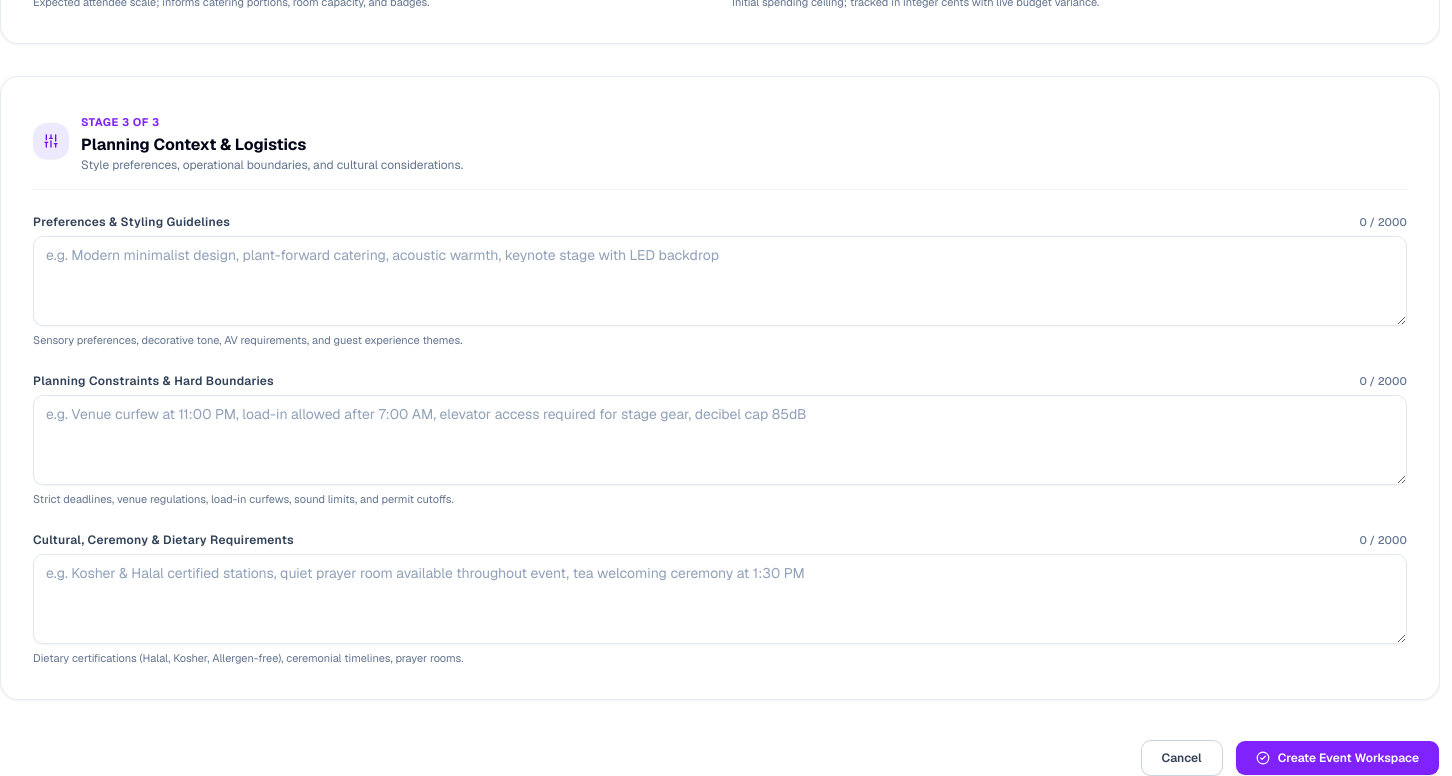
Test case: EventForm Component › Client Validation & Interactive Error Summaries › focuses the target field when clicking the error summary anchor link
(page scrolled)
Click the button "Create Event Workspace": (1337, 758) 1235,740 -> 1440,775
(page scrolled)
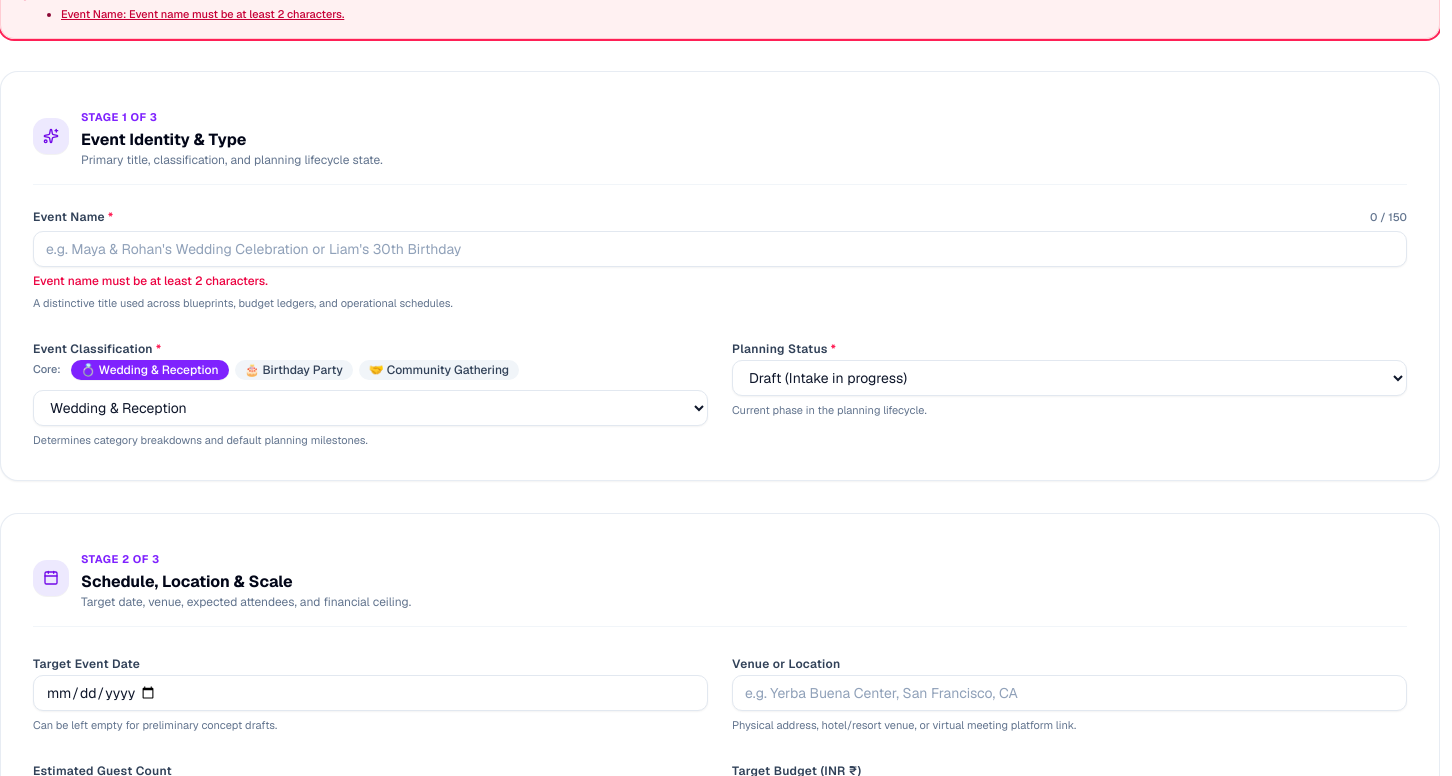
Check: the field labelled "Event Name *" is shown, box 33,231 -> 1407,267
Check: the button "Event Name: Event name must be at least 2 characters." is shown, box 61,7 -> 344,22
